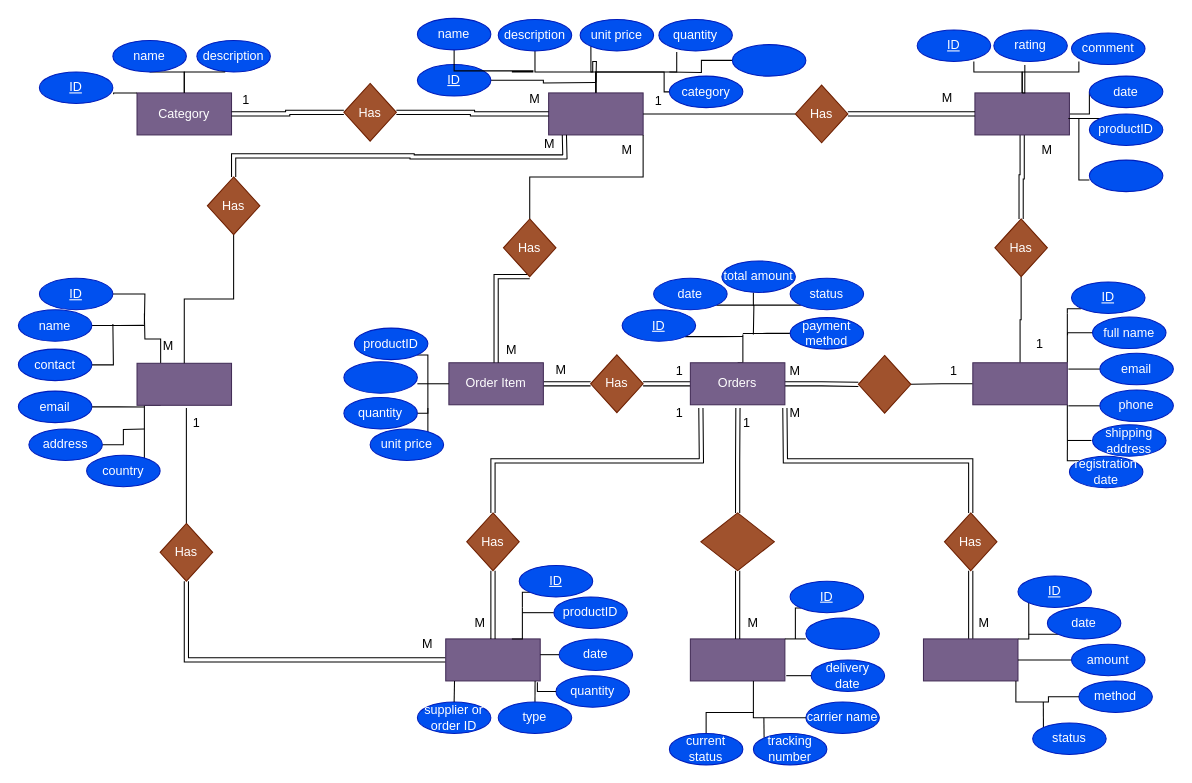
Image size: 1192x783. Some labels were removed from this diagram. Here are the shapes that lost their labels. From the top down, the centre of each, then its label:
the point at 768,60: date added
the point at 595,113: Product
the point at 1021,113: Review
the point at 1125,175: customerID
the point at 184,383: Supplier
the point at 380,377: orderID
the point at 884,383: Place
the point at 1019,383: Customer
the point at 737,541: Generate
the point at 842,633: shipment date
the point at 492,659: Transaction
the point at 737,659: Shipment
the point at 970,659: Payment
